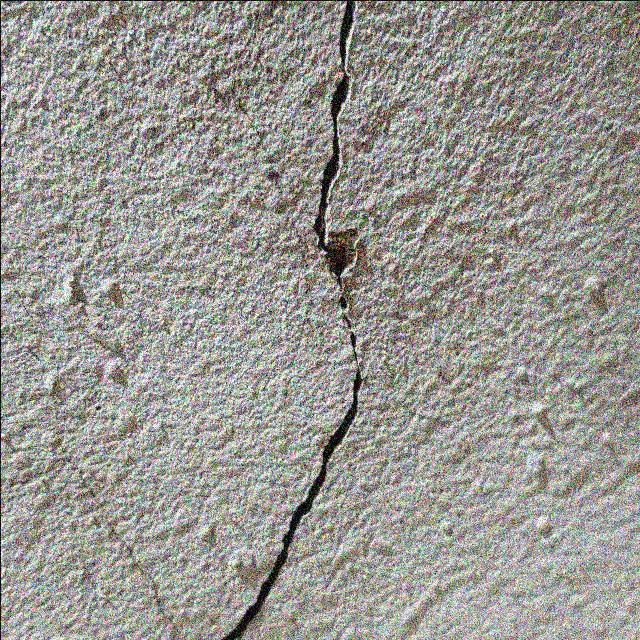SurfaceCrack: (157, 1, 409, 639)
